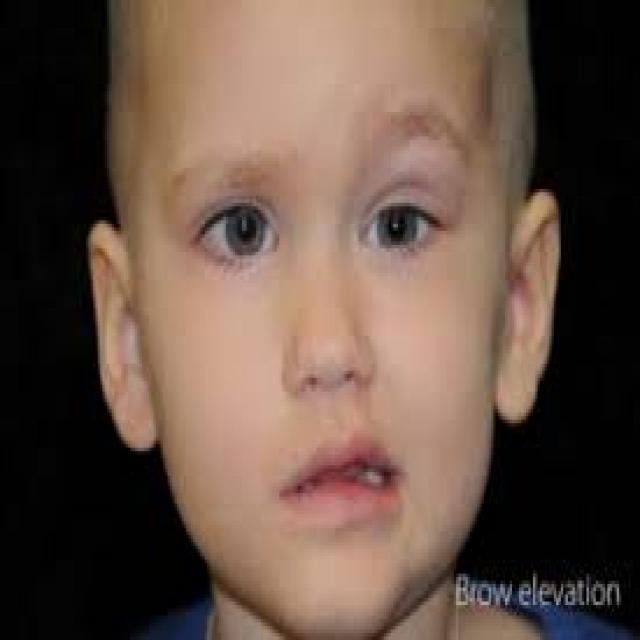stroke_face: (108, 0, 579, 640)
